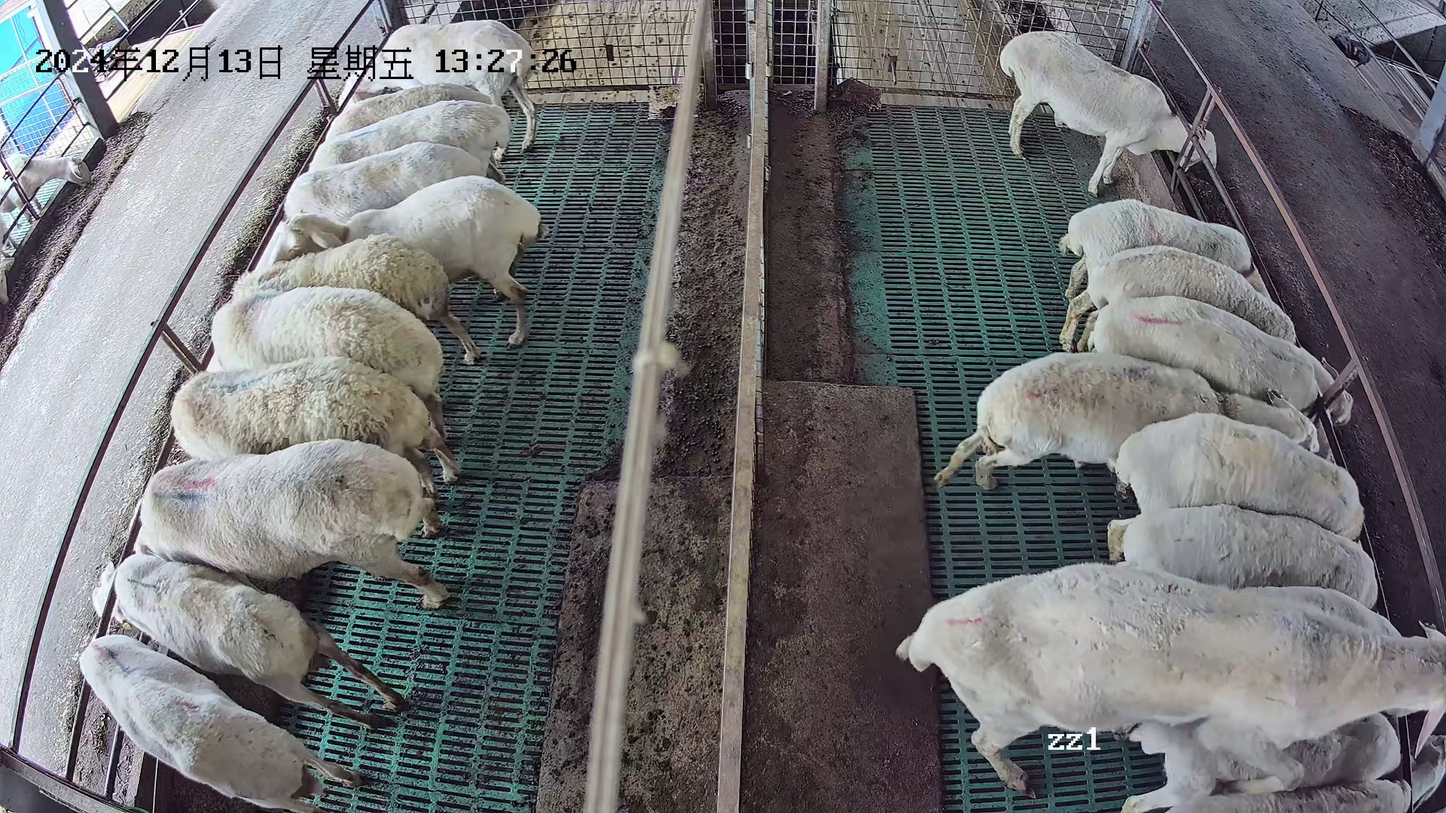Smounting: (894, 560, 1446, 813)
mounted: (1117, 709, 1406, 813)
